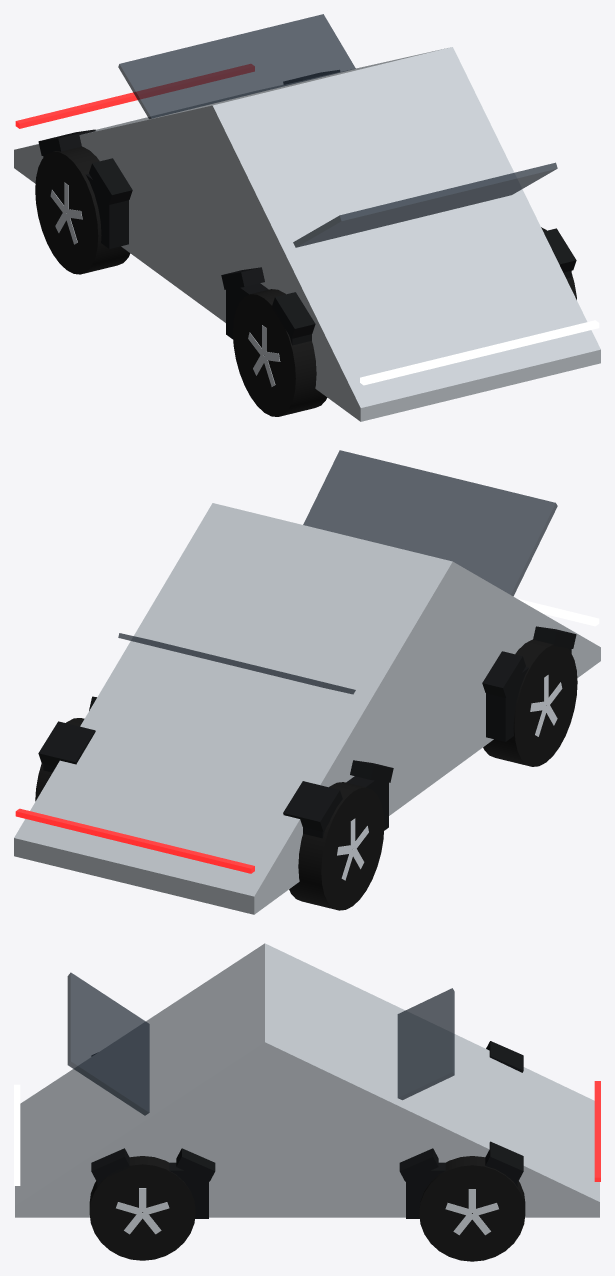
File: voltra-ankylosaur.glb
3 views of the same model, one above another, from view 1: azimuth 30°, elevation 25°; view 2: azimuth 150°, elevation 25°; view 3: azimuth 270°, elevation 25° (orthographic). The views are drawn at different scales.
Parts seen in each view (by area): view 1: chassis, glass (×2), wheel-front-left, wheel-back-left; view 2: chassis, glass (×2), wheel-back-left, wheel-front-left; view 3: chassis, glass (×2), wheel-back-right, wheel-front-right.
Part boxes in pixels (x1,y1,x2,y2): chassis: (14,47,600,421); glass (×2): (118,14,557,247); wheel-front-left: (233,289,327,416); wheel-back-left: (35,146,130,274); chassis: (14,503,600,914); glass (×2): (118,450,557,694); wheel-back-left: (289,782,384,910); wheel-front-left: (483,639,577,766); chassis: (14,943,600,1218); glass (×2): (67,972,454,1115); wheel-back-right: (419,1156,525,1261); wheel-front-right: (89,1156,195,1260).
Bounding box in the file's own units: 2.63 × 2.18 × 5.52.
